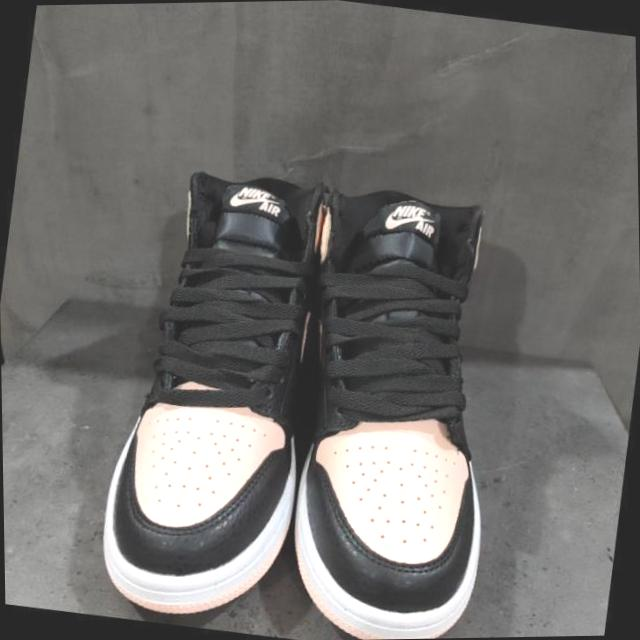nike_fake_jordan: (90, 154, 344, 638), (262, 175, 525, 640)
